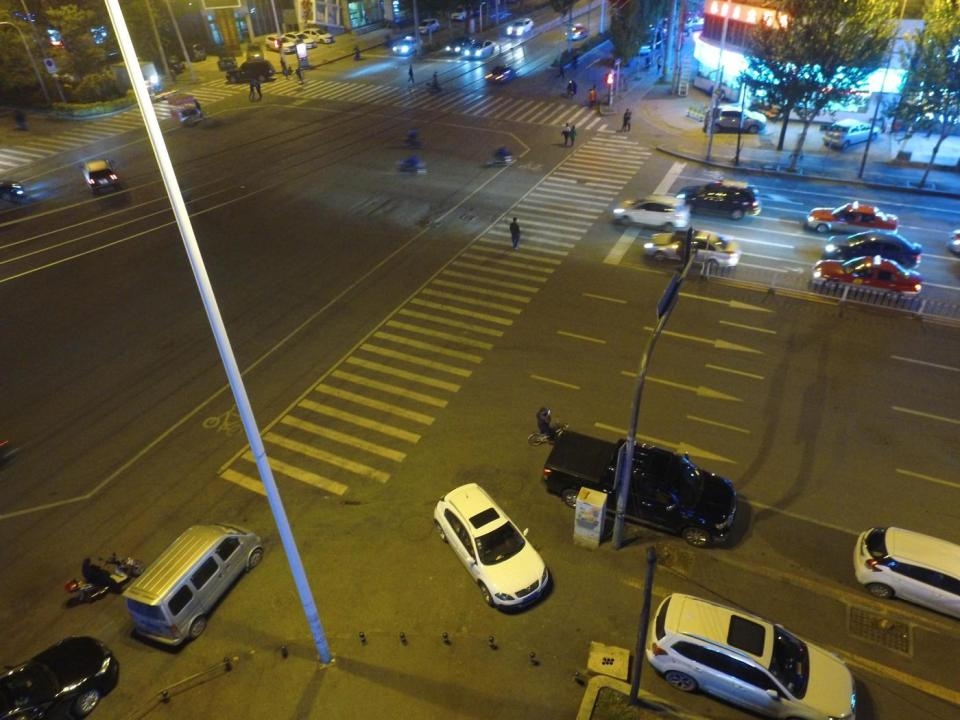car: (646, 592, 855, 720), (433, 481, 553, 614), (1, 635, 117, 720), (853, 526, 960, 614), (813, 254, 923, 299), (648, 230, 742, 270), (828, 232, 922, 269), (803, 201, 900, 234), (678, 181, 759, 219), (611, 196, 691, 231), (707, 104, 767, 135), (822, 118, 879, 150), (82, 158, 119, 198), (226, 58, 276, 83), (464, 40, 496, 60), (268, 35, 300, 54), (392, 34, 419, 56), (288, 30, 318, 49), (151, 57, 184, 74), (305, 27, 334, 46), (505, 17, 534, 36), (484, 66, 516, 83), (624, 36, 650, 55), (684, 15, 710, 33), (443, 35, 470, 52), (219, 50, 237, 69), (420, 18, 438, 36), (567, 23, 585, 41), (246, 42, 263, 61), (450, 4, 468, 21)
truck: (545, 430, 737, 546), (99, 62, 159, 90)
van: (124, 523, 262, 648), (178, 42, 206, 61)
